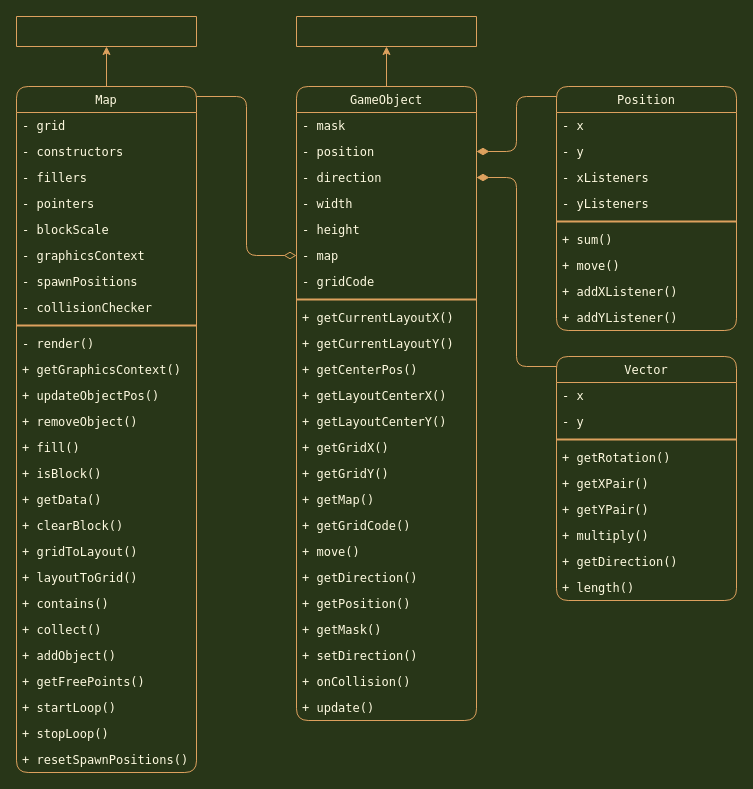
Image size: 753x789. Some labels were removed from this diagram. The shapes that lost their labels are listed below. From the top down, each one's centre as x and y in pixels, then its label:
the point at 106,31: javafx.scene.laout.Pane
the point at 386,31: javafx.scene.Parent
